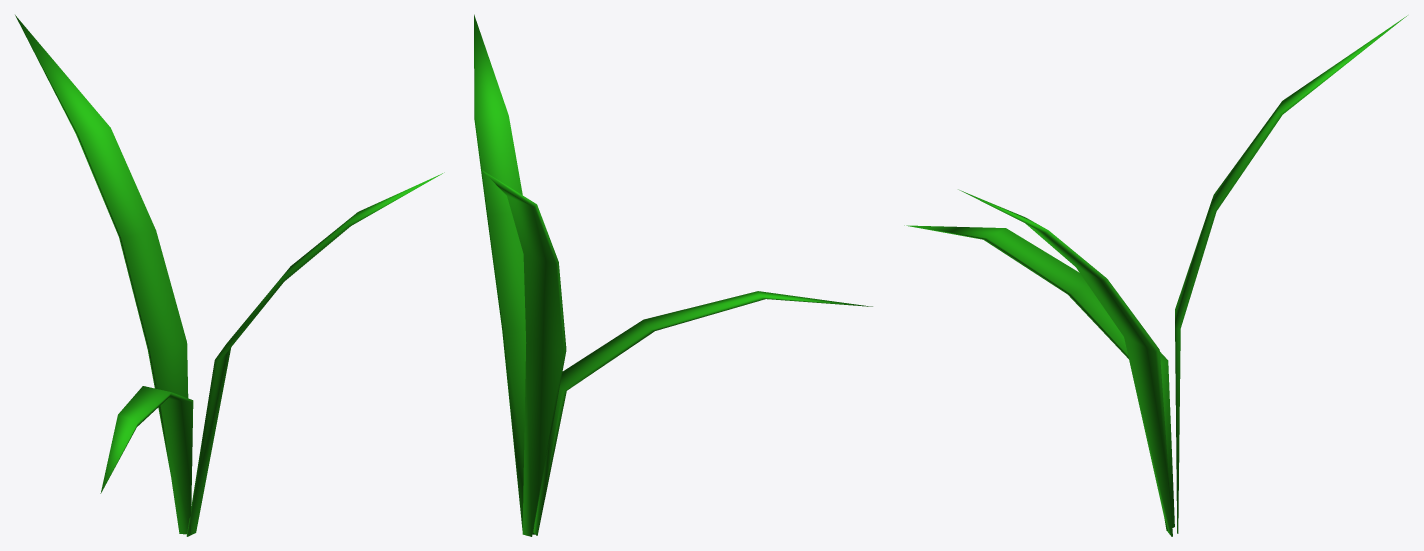
File: Grama.fbx
3 views of the same model, side by side, from view 1: azimuth 30°, elevation 25°; view 2: azimuth 150°, elevation 25°; view 3: azimuth 270°, elevation 25° (orthographic). The views are drawn at different scales.
Parts seen in each view (by area): view 1: GramaFitaA; view 2: GramaFitaA; view 3: GramaFitaA.
Part boxes in pixels (<box>): GramaFitaA: <box>15,15,444,536</box>; GramaFitaA: <box>474,14,872,536</box>; GramaFitaA: <box>904,15,1407,536</box>.
Bounding box in the file's own units: 314 × 369 × 348.
